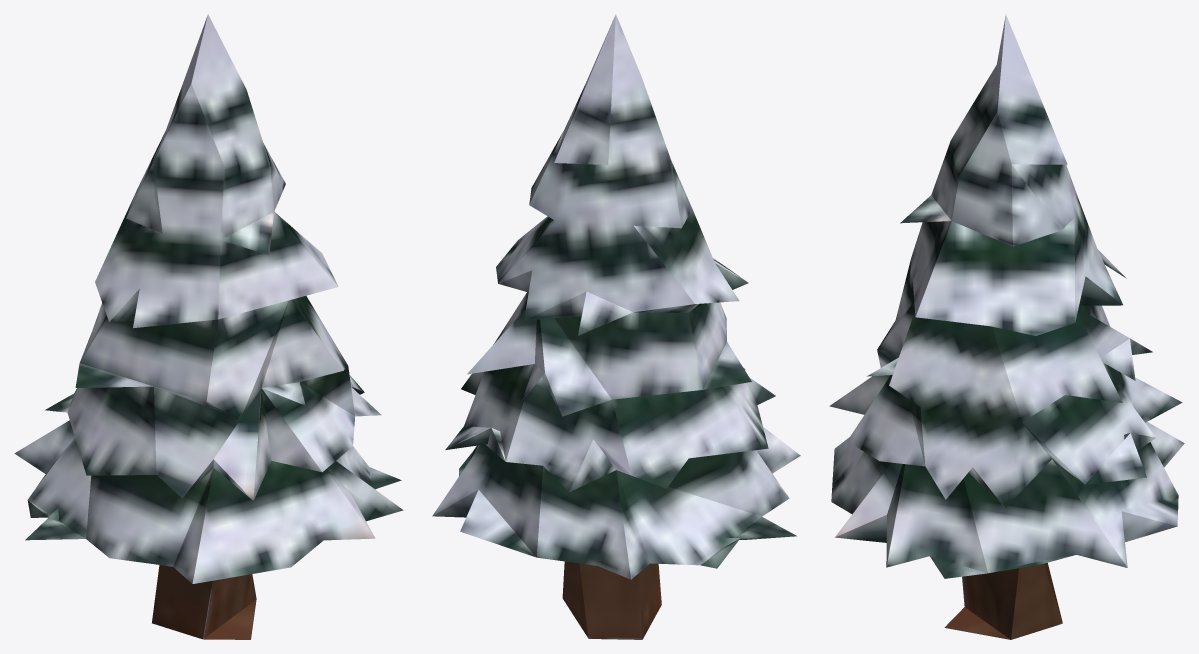
Rendered from tree_spruce_winter.lod3.glb.
3 views of the same model, side by side, from view 1: azimuth 30°, elevation 25°; view 2: azimuth 150°, elevation 25°; view 3: azimuth 270°, elevation 25° (orthographic).
Parts seen in each view (by area): view 1: tree_spruce_winter.lod3_uv; view 2: tree_spruce_winter.lod3_uv; view 3: tree_spruce_winter.lod3_uv.
Boxes of the visible parts, x1,y1,x2,y2 form: tree_spruce_winter.lod3_uv: [14, 14, 403, 639]; tree_spruce_winter.lod3_uv: [432, 14, 800, 639]; tree_spruce_winter.lod3_uv: [829, 14, 1184, 639].
Size of the model in its own units: 1.13 by 1.89 by 0.9986.
1 material, 1 textured.
